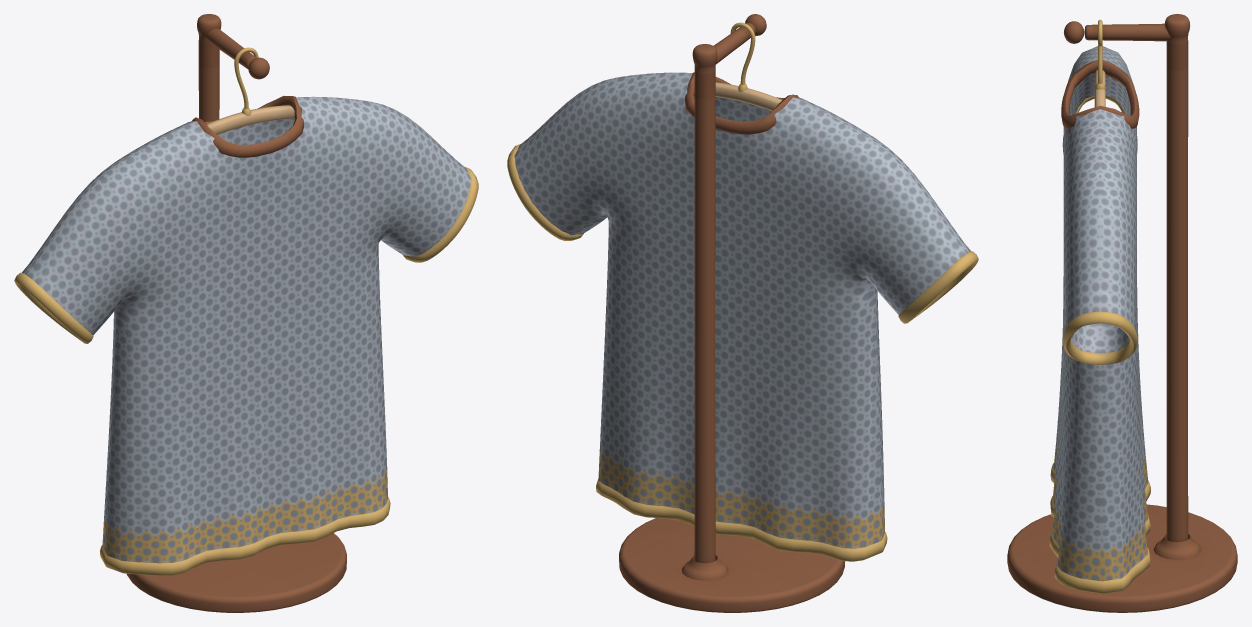
Rendered from chainmail.glb.
3 renders of one model, left to right at view 1: azimuth 30°, elevation 25°; view 2: azimuth 150°, elevation 25°; view 3: azimuth 270°, elevation 25°, orthographic. The views are drawn at different scales.
Parts seen in each view (by area): view 1: chainmail_body; view 2: chainmail_body; view 3: chainmail_body.
Part boxes in pixels (<box>): chainmail_body: <box>14,14,478,612</box>; chainmail_body: <box>507,14,978,612</box>; chainmail_body: <box>1007,14,1237,612</box>.
Size of the model in its own units: 0.8274 by 0.925 by 0.352.
1 material, 1 textured.
